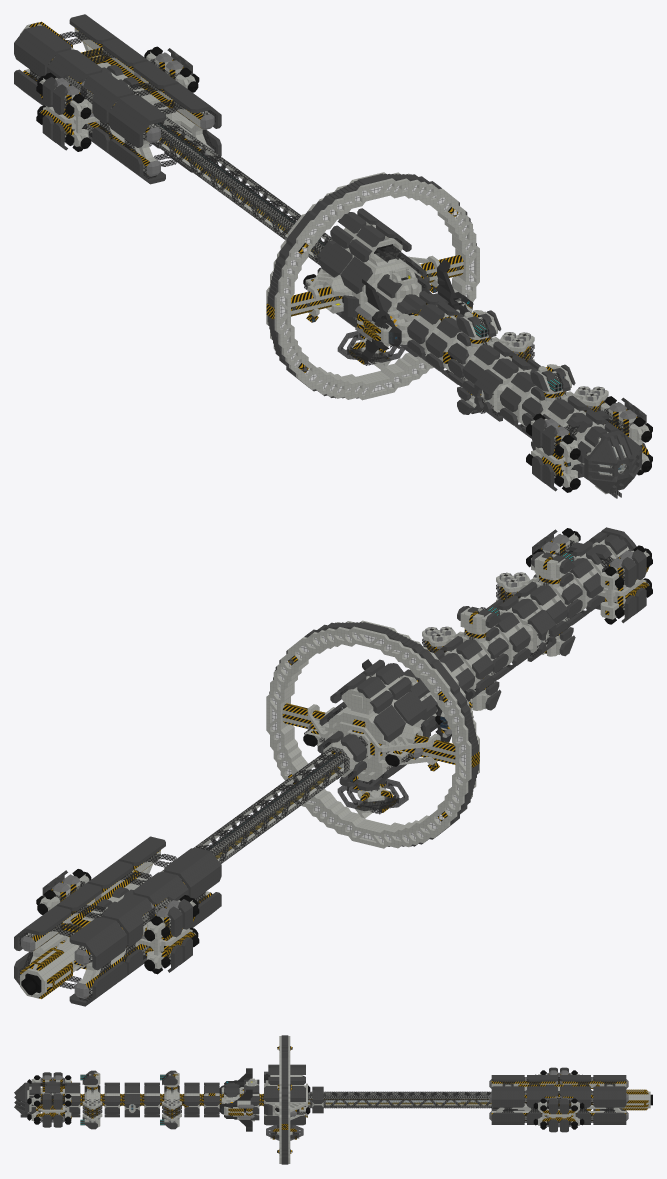
Rendered from zaadschip.glb.
3 renders of one model, top to bottom at view 1: azimuth 30°, elevation 25°; view 2: azimuth 150°, elevation 25°; view 3: azimuth 270°, elevation 25°, orthographic. The views are drawn at different scales.
Parts seen in each view (by area): view 1: Object_5, Object_11; view 2: Object_5; view 3: Object_5, Object_11, Object_10.
Part boxes in pixels (x1=…): Object_5: x1=14, y1=14, x2=652, y2=498; Object_11: x1=157, y1=122, x2=621, y2=498; Object_5: x1=14, y1=527, x2=652, y2=1006; Object_5: x1=14, y1=1035, x2=652, y2=1164; Object_11: x1=21, y1=1068, x2=252, y2=1131; Object_10: x1=80, y1=1074, x2=307, y2=1125.
Bounding box in the file's own units: 58 × 57.51 × 289.
5 materials, 5 textured.
